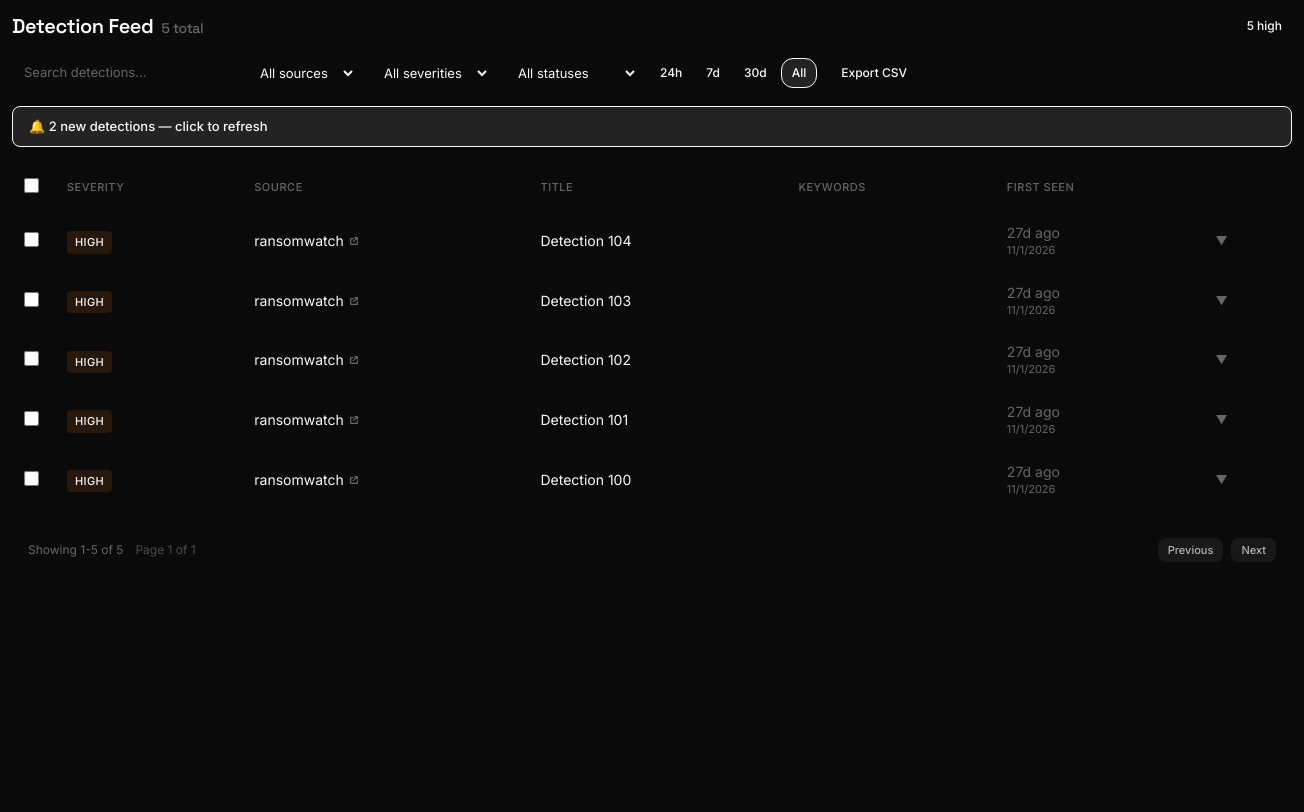
Test: DetectionFeed new-detection banner › announces new ids and saves the newest id when dismissed
Click the text "🔔 2 new detections — click to refresh": (652, 126) [12,106,1292,147]
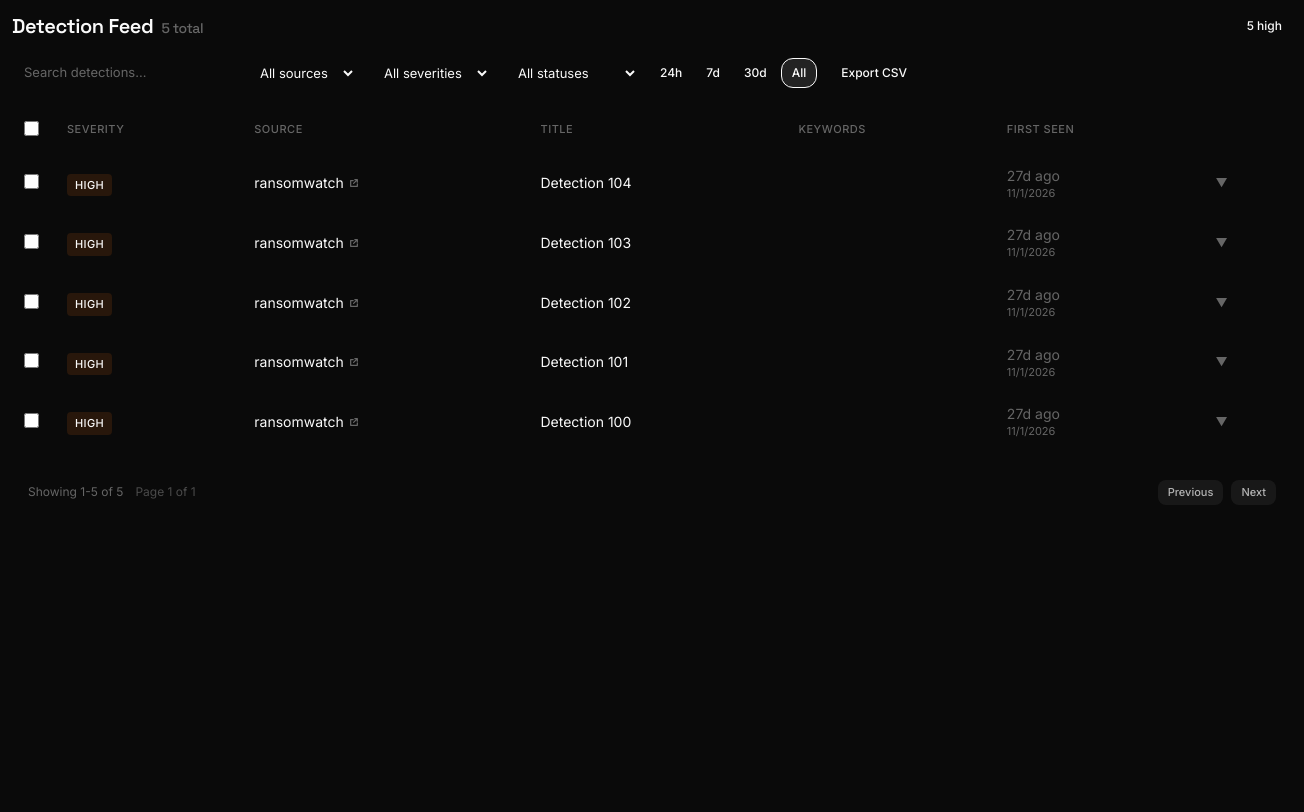
Check: the text "new detection" is gone
